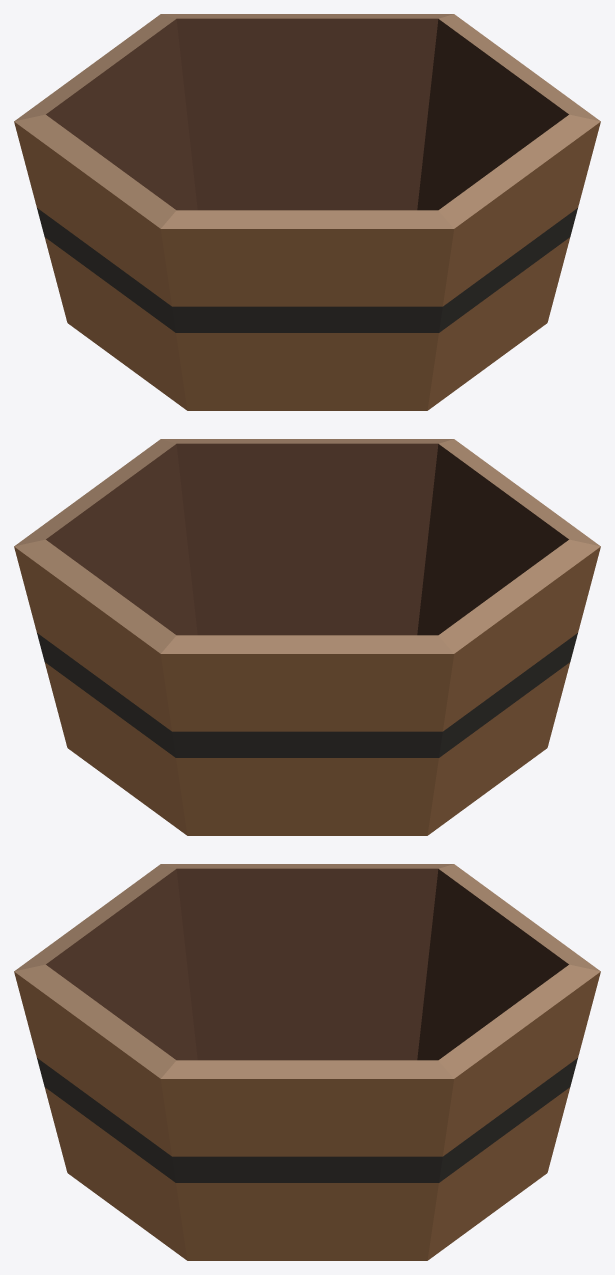
The model's file is TB_D_Prop_BucketBig_B.FBX.
3 renders of one model, top to bottom at view 1: azimuth 30°, elevation 25°; view 2: azimuth 150°, elevation 25°; view 3: azimuth 270°, elevation 25°, orthographic.
Parts seen in each view (by area): view 1: TB_D_Prop_BucketBig_B; view 2: TB_D_Prop_BucketBig_B; view 3: TB_D_Prop_BucketBig_B.
Boxes of the visible parts, <box> form: TB_D_Prop_BucketBig_B: <box>14,14,600,410</box>; TB_D_Prop_BucketBig_B: <box>14,439,600,835</box>; TB_D_Prop_BucketBig_B: <box>14,864,600,1260</box>.
Bounding box in the file's own units: 0.9353 × 0.4233 × 1.08.
